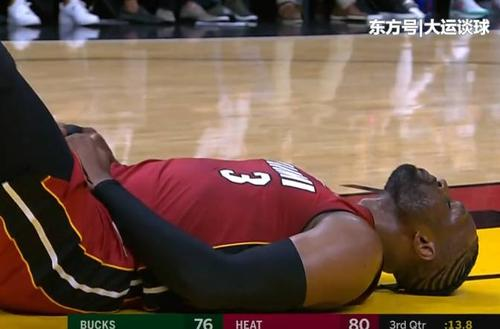fall: (2, 27, 486, 300)
